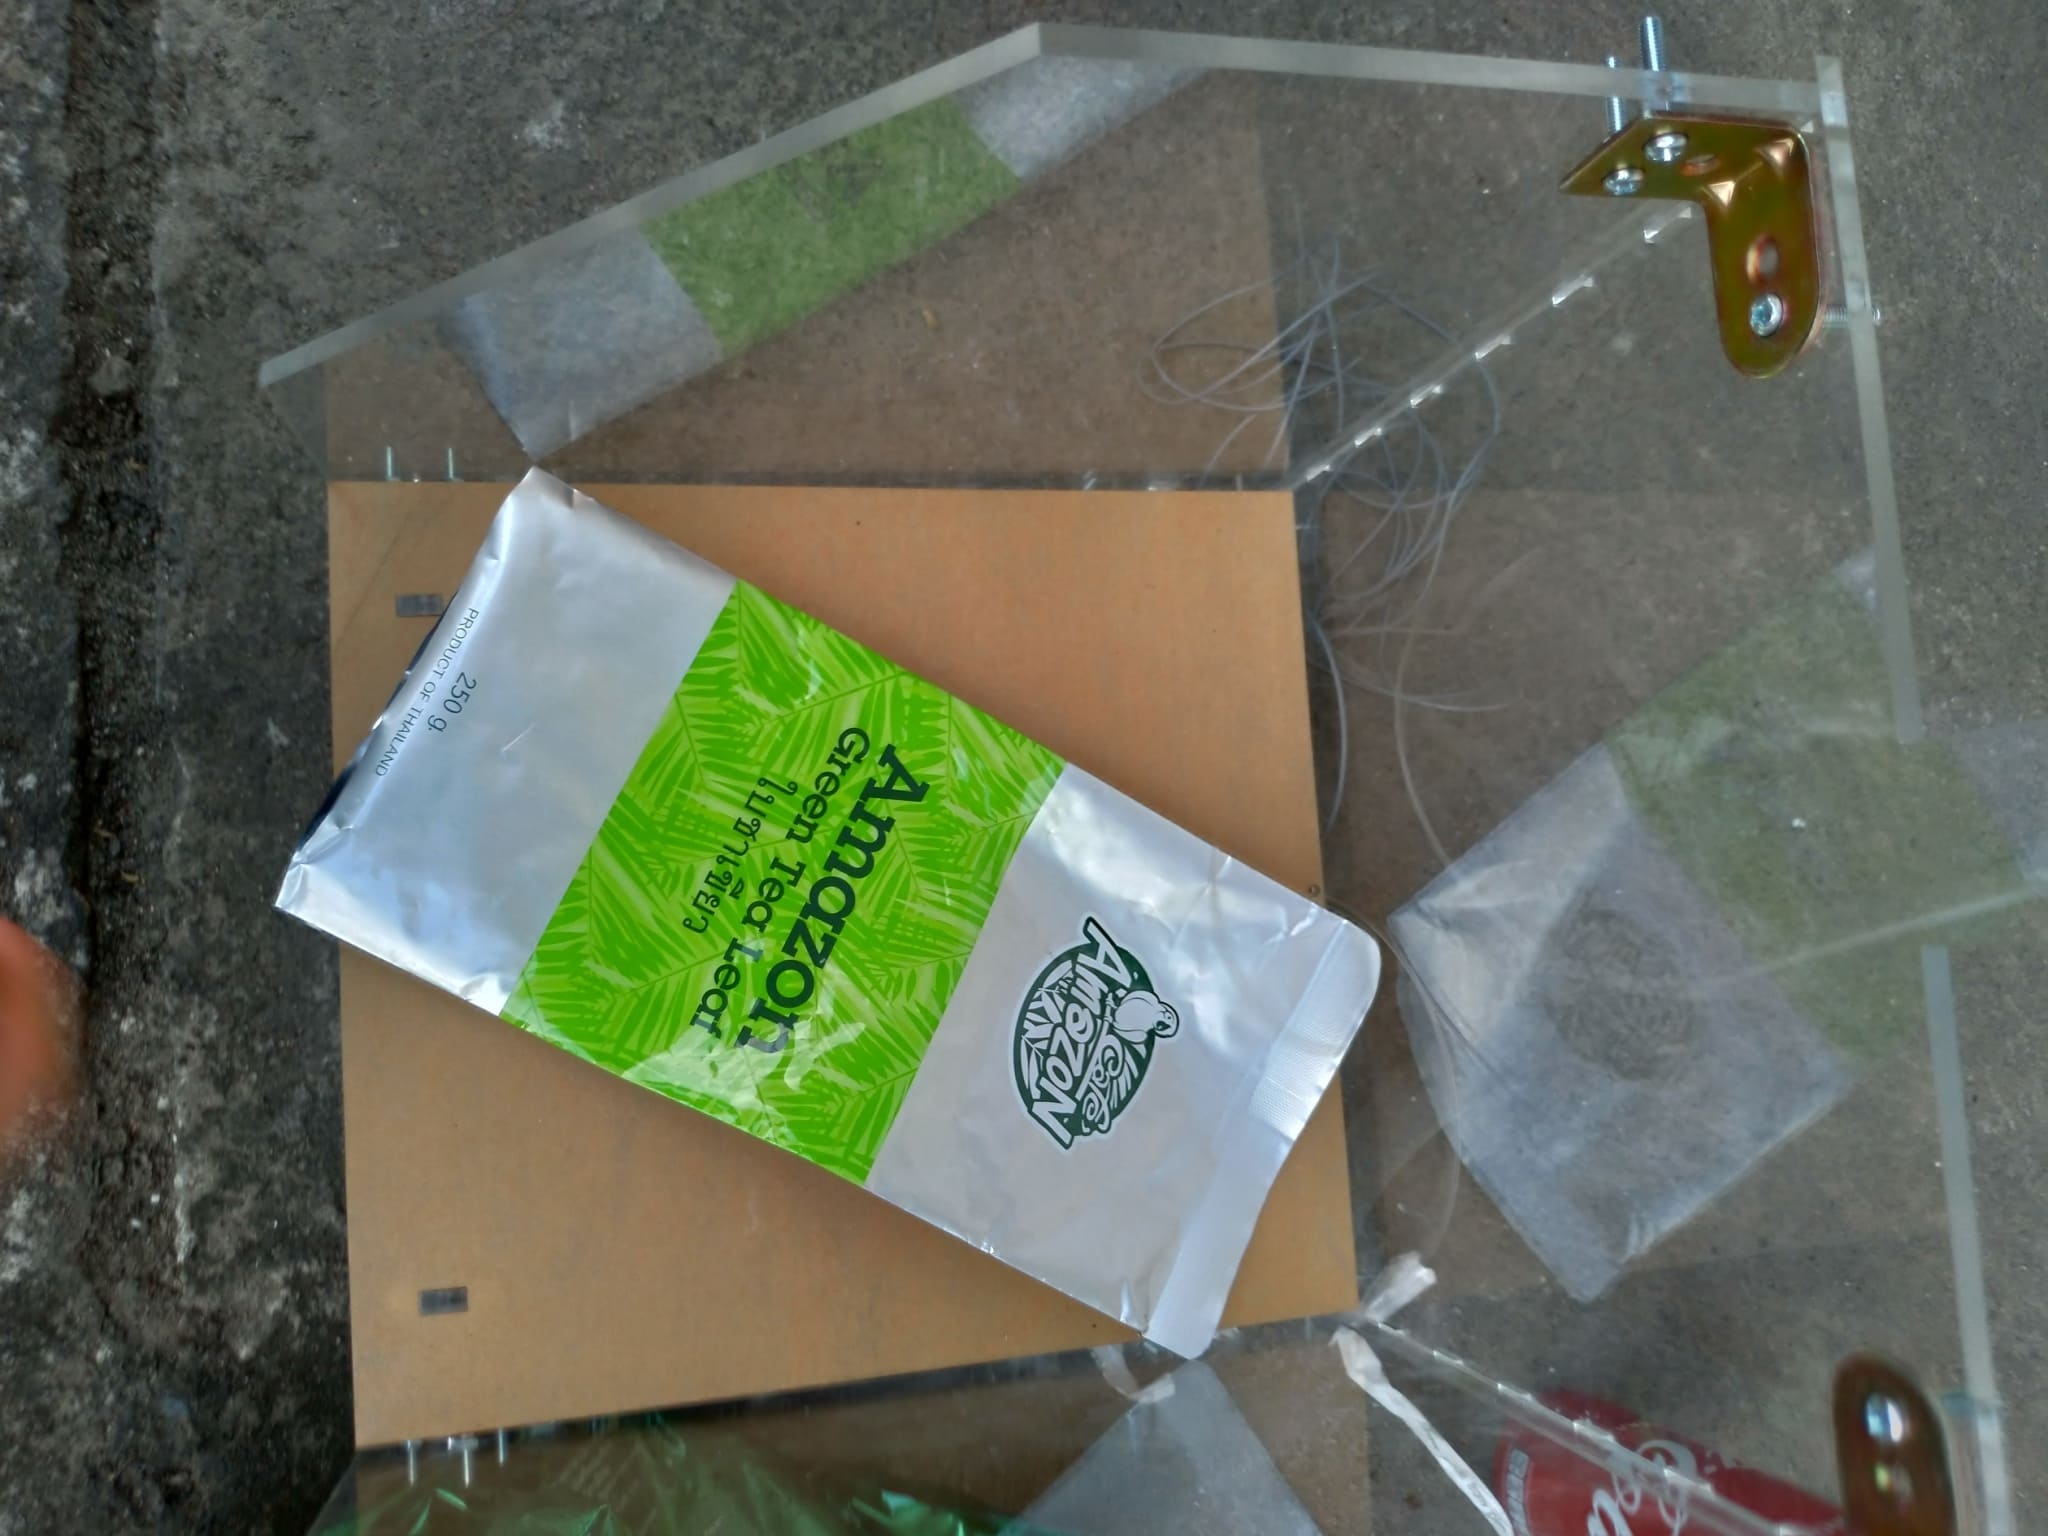AlCan: (1490, 1392, 1884, 1536)
Others: (297, 479, 1384, 1362)
